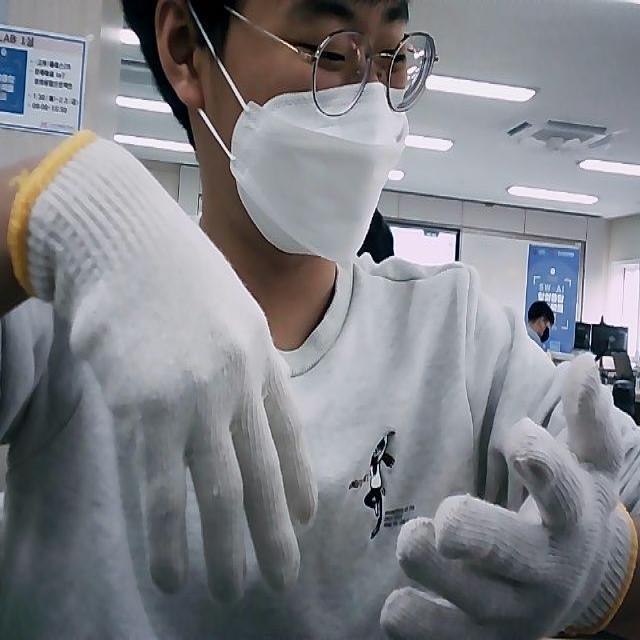gloves: (12, 130, 318, 600), (380, 352, 640, 640)
